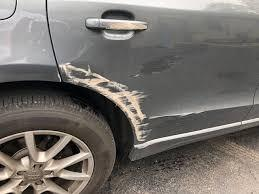scratch: (58, 59, 156, 149), (158, 106, 212, 123)
